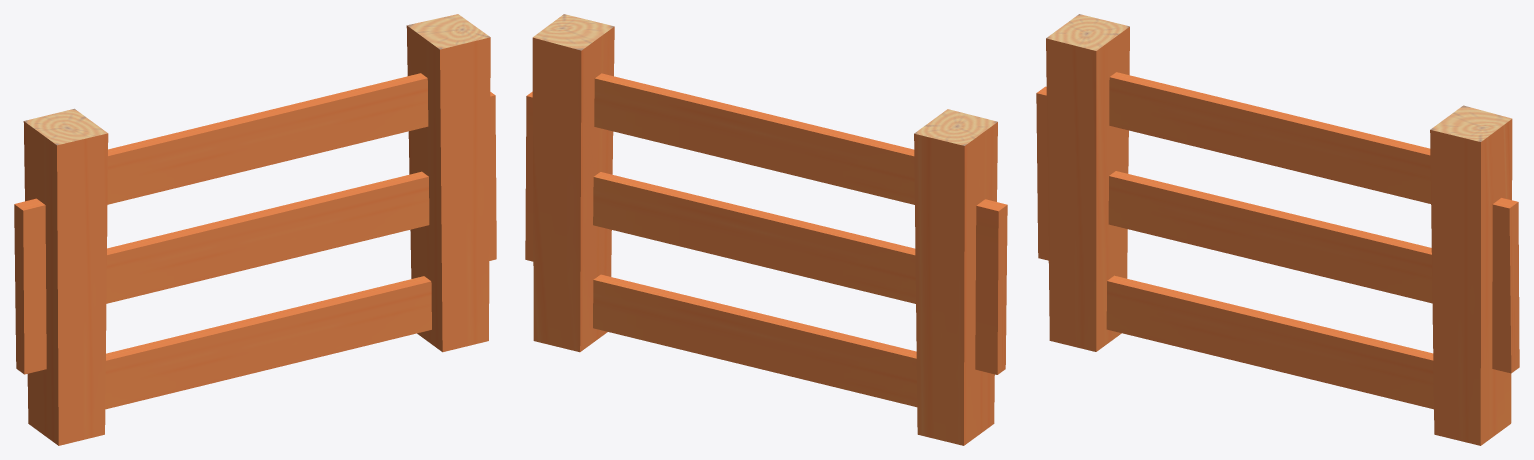
The model's file is Fence_Z_Door.fbx.
3 renders of one model, left to right at view 1: azimuth 30°, elevation 25°; view 2: azimuth 150°, elevation 25°; view 3: azimuth 330°, elevation 25°, orthographic.
Parts seen in each view (by area): view 1: Fence_Z_Door; view 2: Fence_Z_Door; view 3: Fence_Z_Door.
Boxes of the visible parts, bbox=[...] form: Fence_Z_Door: bbox=[14, 14, 496, 445]; Fence_Z_Door: bbox=[525, 14, 1007, 445]; Fence_Z_Door: bbox=[1036, 14, 1519, 445].
Bounding box in the file's own units: 150 × 91.78 × 18.56.
